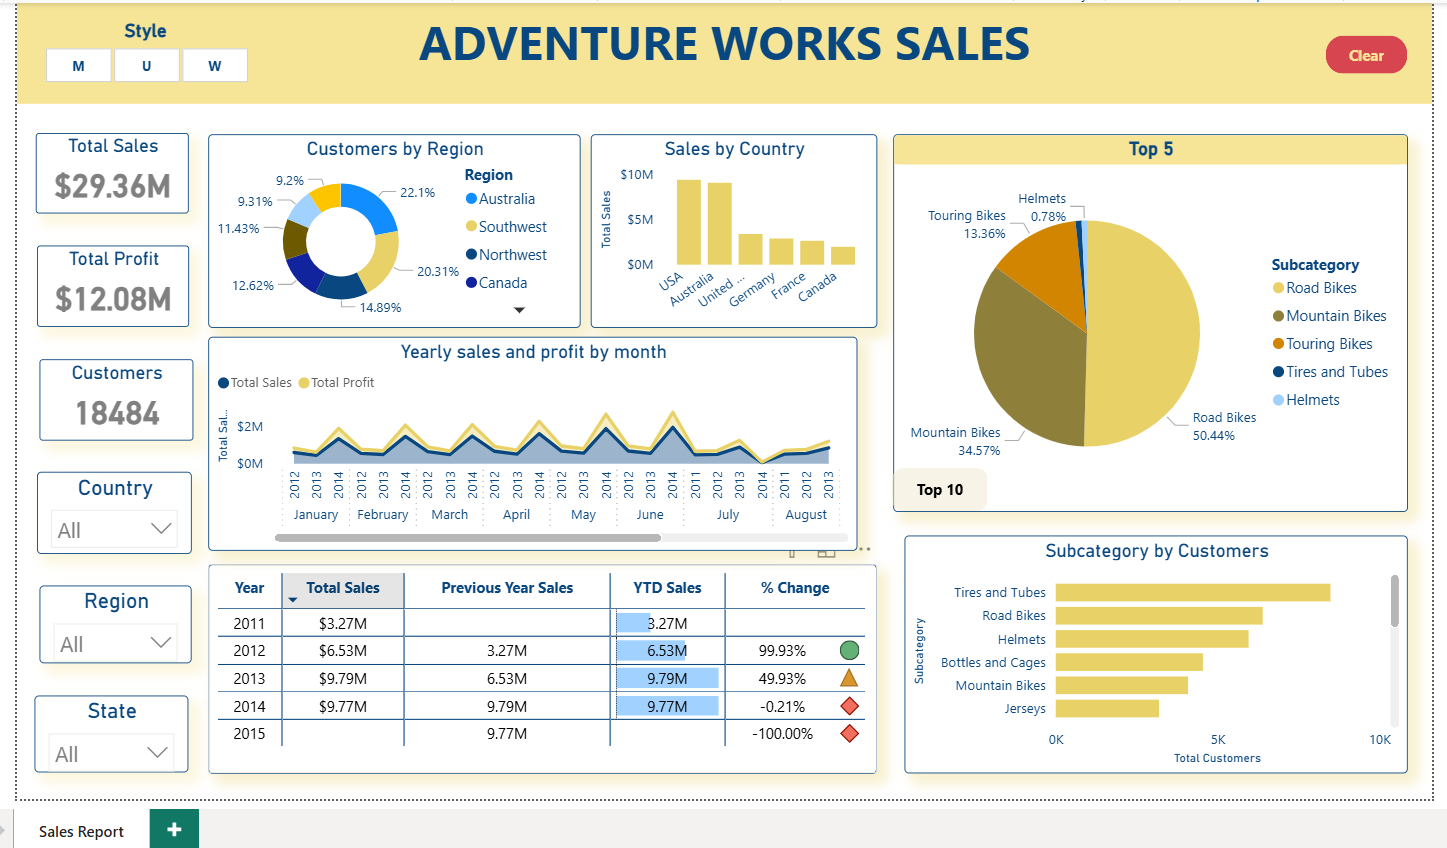

Layout of this report page (visuals, bound fields, positions):
{"tool":"powerbi","page":{"name":"Sales Report","canvas":[1280,720],"ordinal":0},"visuals":[{"type":"textbox","box":[0,0,1279.9,91.6],"z":0},{"type":"card","title":"Total Sales","fields":{"Values":["_Measures.Total Sales"]},"box":[17.2,118,138.6,72.7],"z":1000},{"type":"card","title":"Total Profit","fields":{"Values":["_Measures.Total Profit"]},"box":[17.9,219.6,137.8,73.2],"z":2000},{"type":"card","title":"Customers","fields":{"Values":["_Measures.Total Customers"]},"box":[19.9,321.7,139,73.2],"z":3000},{"type":"slicer","title":"Country","fields":{"Values":["DimSalesTerritory.Country"]},"box":[17.7,423.9,140.3,74.5],"z":4000},{"type":"slicer","title":"Region","fields":{"Values":["DimSalesTerritory.Region"]},"box":[20,527.2,137.8,70.8],"z":5000},{"type":"slicer","title":"State","fields":{"Values":["DimSalesTerritory.State"]},"box":[16.1,626.9,139,69.5],"z":6000},{"type":"donutChart","title":"Customers by Region","fields":{"Category":["DimSalesTerritory.Region"],"Y":["CountNonNull(FactInternetSale.CustomerKey)"]},"box":[173.5,118.6,336.9,175],"z":9000},{"type":"clusteredColumnChart","title":"Sales by Country","fields":{"Y":["_Measures.Total Sales"],"Category":["DimSalesTerritory.Country"]},"box":[519.1,118.6,258.8,175],"z":10000},{"type":"tableEx","fields":{"Values":["DimDate.Year","_Measures.Total Sales","_Measures.Previous Year Sales","_Measures.YTD Sales","_Measures.% Change"]},"box":[173.5,507.6,604.4,189.4],"z":11000},{"type":"clusteredBarChart","title":"Subcategory by Customers","fields":{"Y":["_Measures.Total Customers"],"Category":["DimProductSubcategory.Subcategory"]},"box":[802.5,481.5,455.5,215.5],"z":12000},{"type":"stackedAreaChart","title":"Yearly sales and profit by month","fields":{"Category":["DimDate.MonthName","DimDate.Year"],"Y":["_Measures.Total Sales","_Measures.Total Profit"]},"box":[173.5,302.2,587.1,193.8],"z":13000},{"type":"pieChart","title":"Top 10","fields":{"Y":["_Measures.Total Sales"],"Category":["DimProductSubcategory.Subcategory"]},"box":[791,118.6,467.1,342.7],"z":15000},{"type":"actionButton","title":"Top ","box":[791,420.8,76.6,39],"z":16000},{"type":"actionButton","box":[1184.3,28.9,73.7,34.7],"z":18000},{"type":"slicer","title":"Style","fields":{"Values":["DimProduct.Style"]},"box":[0,14.5,232.8,63.6],"z":19000}]}

Visuals, with their boxes on the page's 1280x720 design canvas (x1, y1, x2, y2). These are canvas units, not pixel positions in the 1447x848 screenshot, which may show the page scaled, cropped or inside an application window:
textbox: bbox(0, 0, 1280, 92)
"Total Sales" card: bbox(17, 118, 156, 191)
"Total Profit" card: bbox(18, 220, 156, 293)
"Customers" card: bbox(20, 322, 159, 395)
"Country" slicer: bbox(18, 424, 158, 498)
"Region" slicer: bbox(20, 527, 158, 598)
"State" slicer: bbox(16, 627, 155, 696)
"Customers by Region" donutChart: bbox(174, 119, 510, 294)
"Sales by Country" clusteredColumnChart: bbox(519, 119, 778, 294)
tableEx - DimDate.Year x _Measures.Total Sales: bbox(174, 508, 778, 697)
"Subcategory by Customers" clusteredBarChart: bbox(802, 482, 1258, 697)
"Yearly sales and profit by month" stackedAreaChart: bbox(174, 302, 761, 496)
"Top 10" pieChart: bbox(791, 119, 1258, 461)
"Top " actionButton: bbox(791, 421, 868, 460)
actionButton: bbox(1184, 29, 1258, 64)
"Style" slicer: bbox(0, 14, 233, 78)
